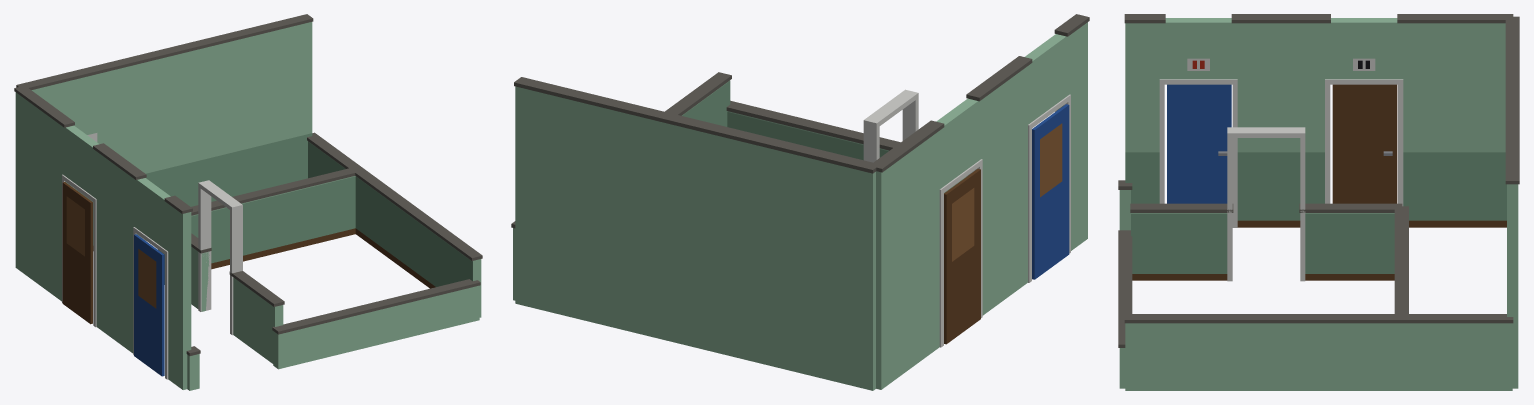
The model's file is bld_home-hostel-house.2c2c507ba8ab.glb.
The picture shows the model from 3 angles, left to right: view 1: azimuth 30°, elevation 25°; view 2: azimuth 150°, elevation 25°; view 3: azimuth 270°, elevation 25°; orthographic projection. The views are drawn at different scales.
Parts seen in each view (by area): view 1: body; view 2: body; view 3: body.
Part boxes in pixels (x1,y1,x2,y2): body: (14,14,482,390); body: (511,14,1089,390); body: (1118,14,1519,390).
Size of the model in its own units: 5.37 by 3.05 by 5.34.
